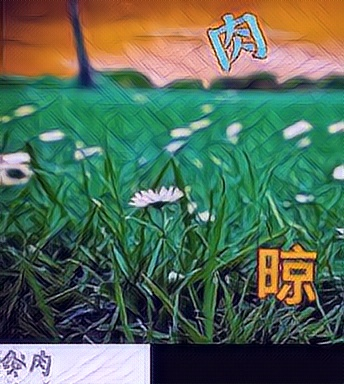C1C0: (257, 239, 318, 304)
C8E2: (207, 5, 268, 70)
